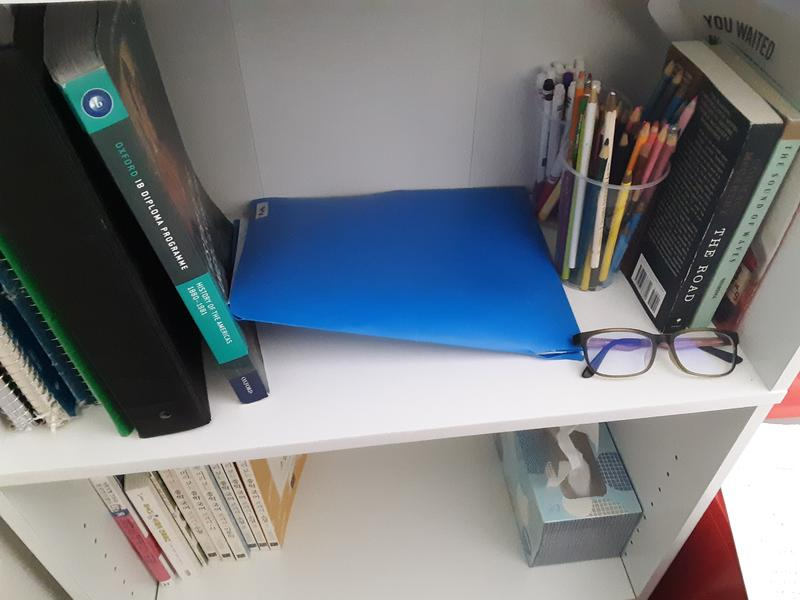glasses: (568, 327, 746, 380)
